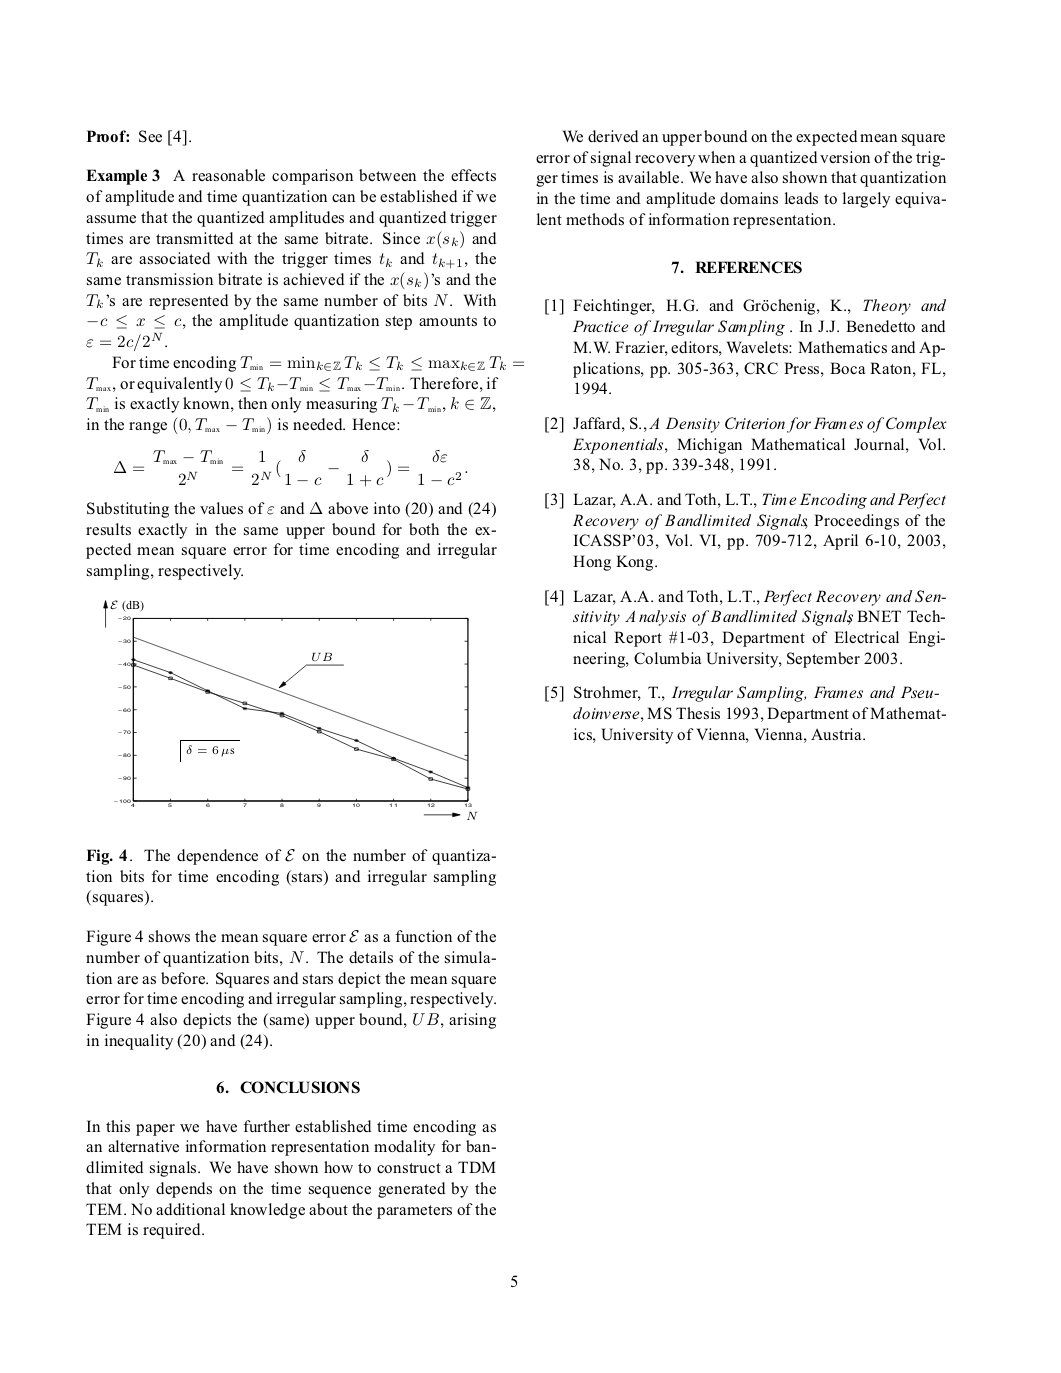figure: (103, 600, 477, 819)
formula: (114, 449, 467, 487), (86, 332, 166, 351)
